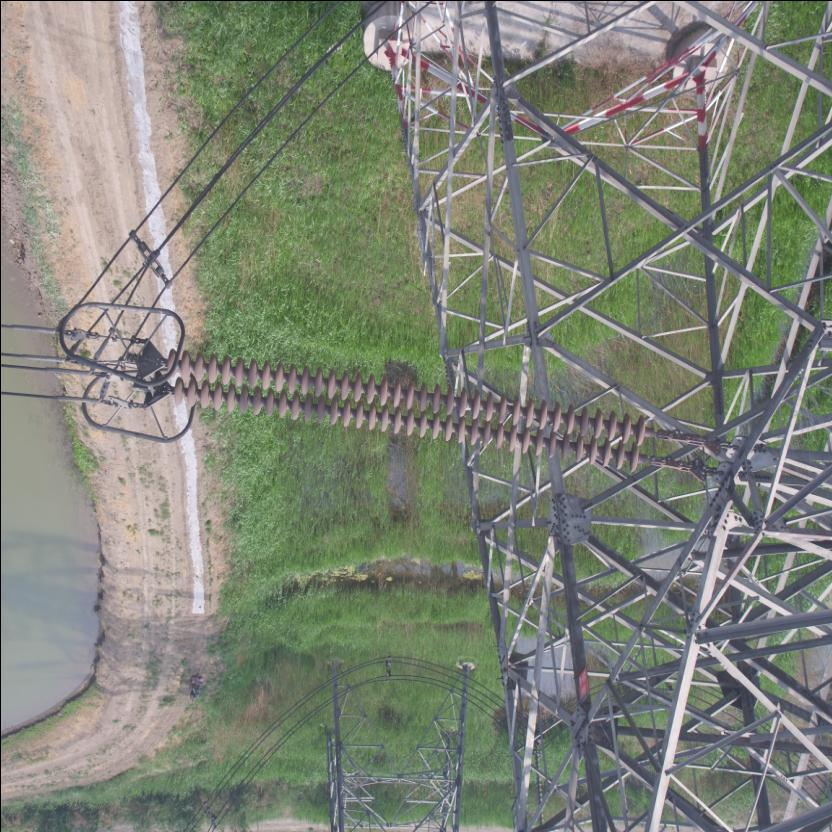insulator: (154, 343, 682, 476)
